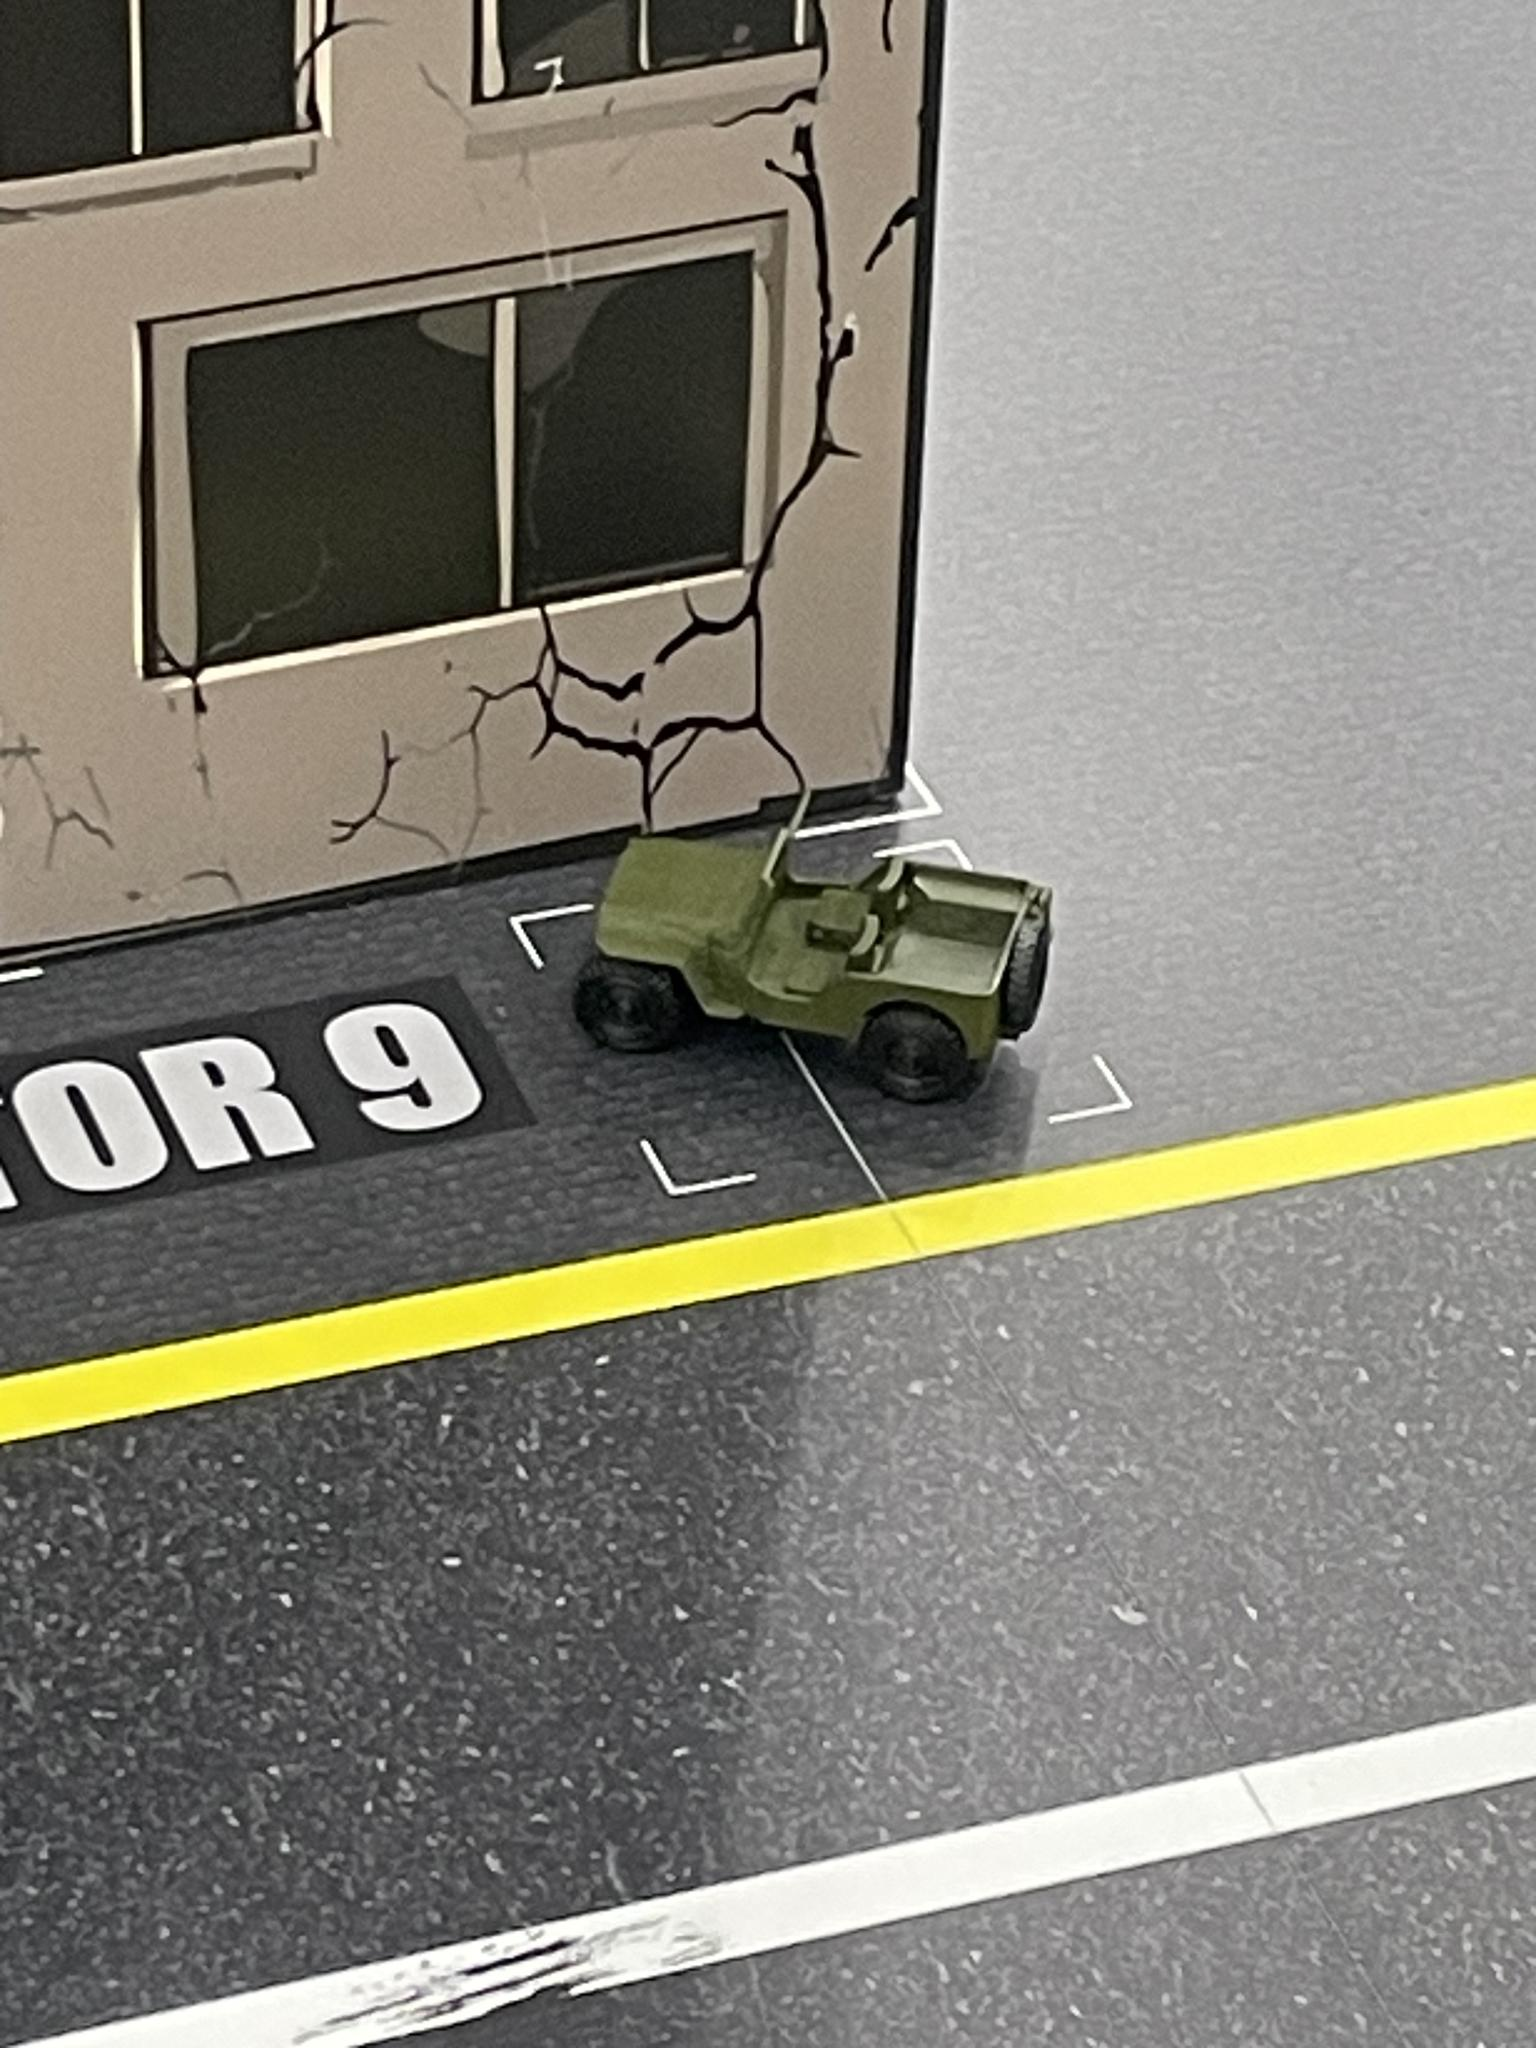Car: (576, 785, 1057, 1100)
